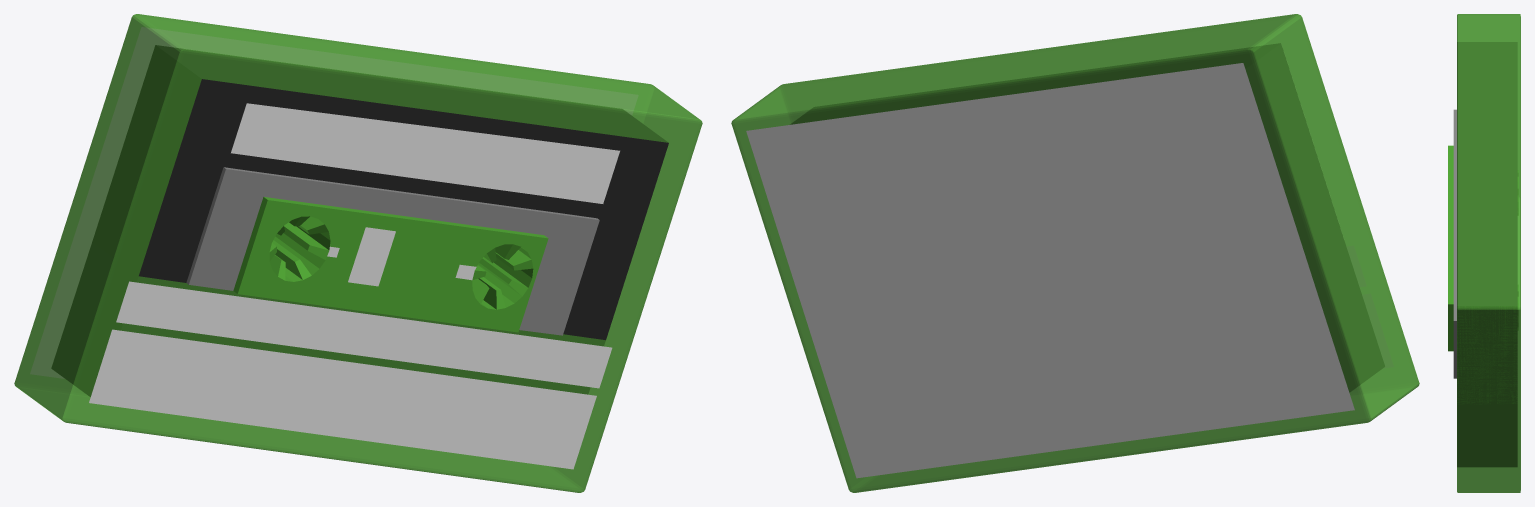
Rendered from Cassette_Green.fbx.
The picture shows the model from 3 angles, left to right: view 1: azimuth 30°, elevation 25°; view 2: azimuth 150°, elevation 25°; view 3: azimuth 270°, elevation 25°; orthographic projection. The views are drawn at different scales.
Visible parts, largest first — view 1: Cube; view 2: Cube; view 3: Cube.
Boxes of the visible parts, bbox=[...] form: Cube: bbox=[14, 14, 702, 492]; Cube: bbox=[731, 14, 1419, 492]; Cube: bbox=[1448, 14, 1520, 492].
Bounding box in the file's own units: 184 × 148 × 27.78.
